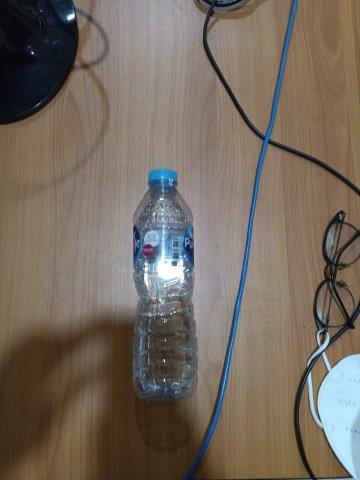botolplastik: (133, 168, 198, 408)
